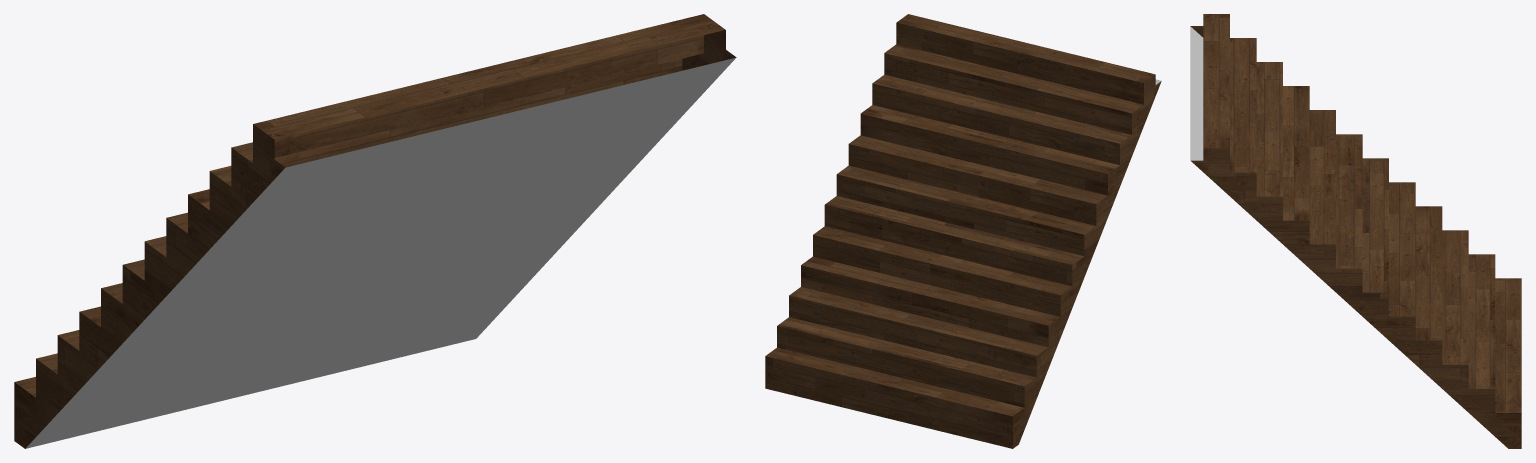
The model's file is stairs.fbx.
3 renders of one model, left to right at view 1: azimuth 30°, elevation 25°; view 2: azimuth 150°, elevation 25°; view 3: azimuth 270°, elevation 25°, orthographic. The views are drawn at different scales.
Parts seen in each view (by area): view 1: stairs; view 2: stairs; view 3: stairs.
Boxes of the visible parts, bbox=[...] form: stairs: bbox=[14, 14, 736, 448]; stairs: bbox=[765, 14, 1161, 448]; stairs: bbox=[1190, 14, 1521, 448].
Size of the model in its own units: 12 by 12.5 by 12.5.
Materials: 1 (1 with a texture image).
